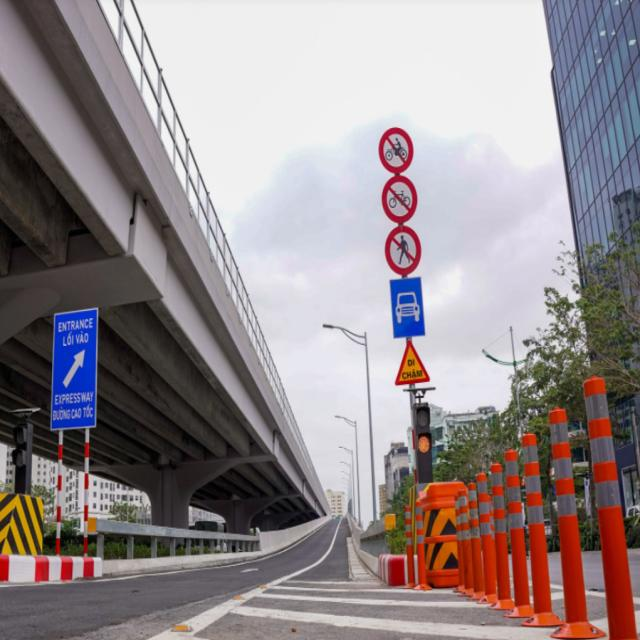bien_cam: (384, 224, 422, 276), (378, 125, 414, 172)
